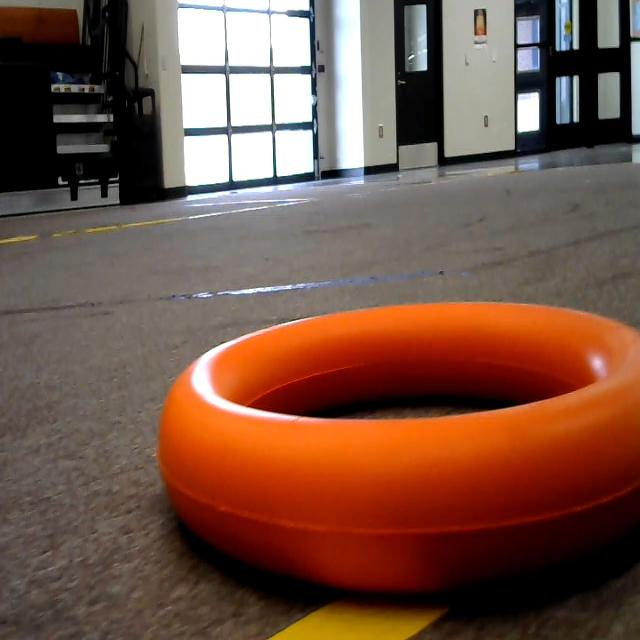note: (149, 300, 640, 601)
